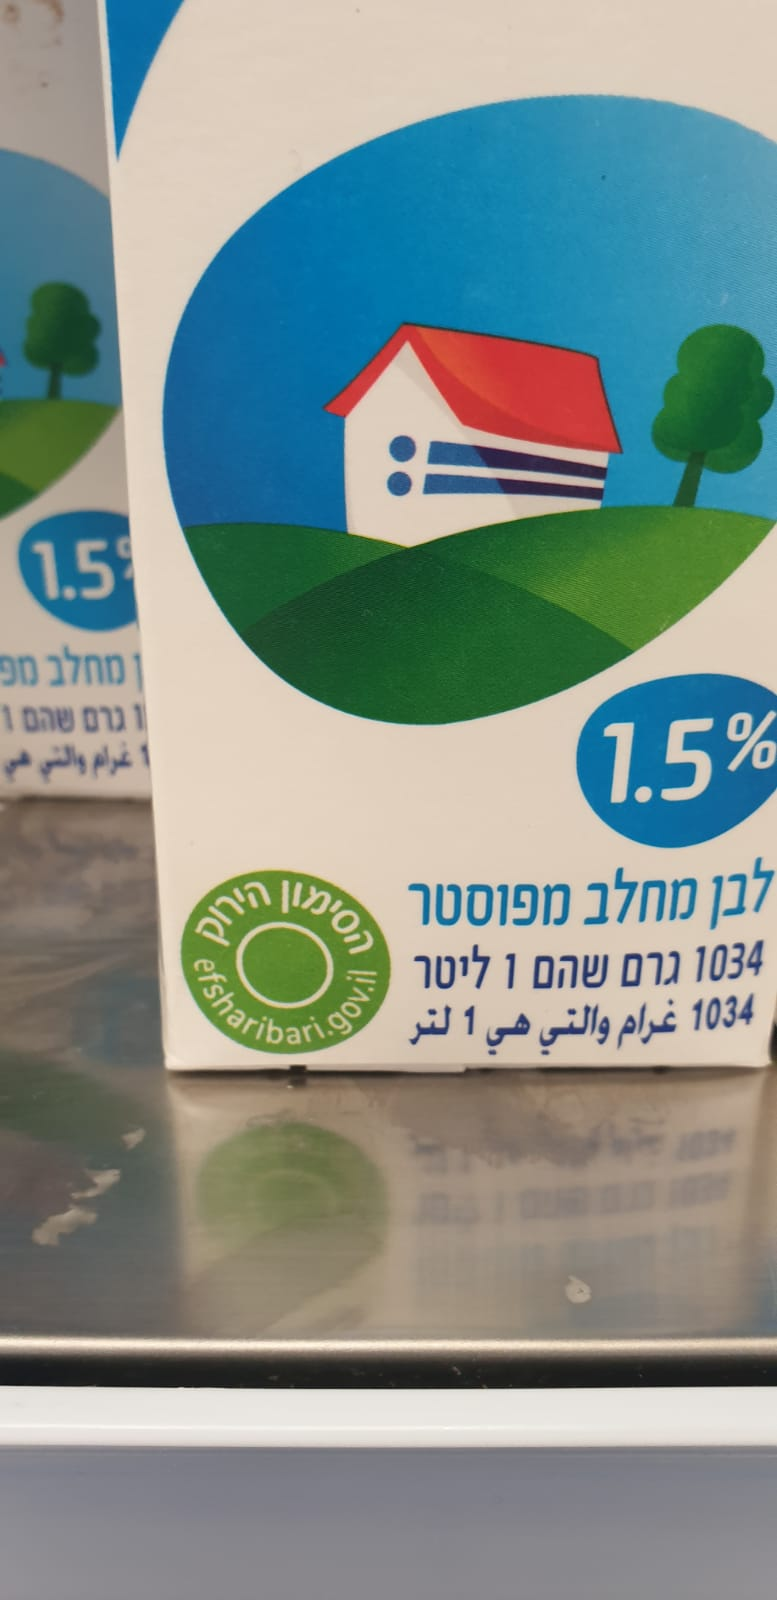green: (179, 868, 394, 1058)
